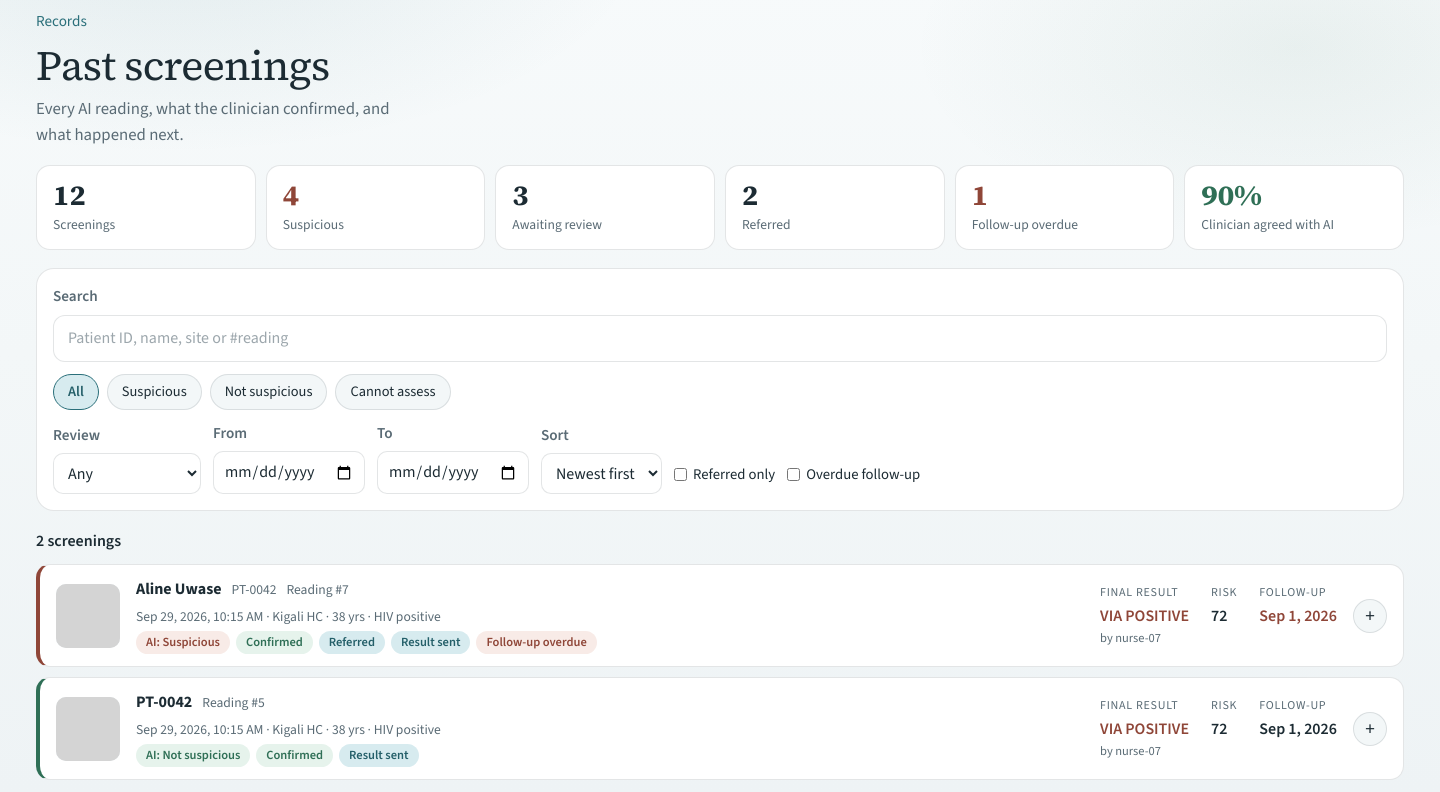
Test: ScreeningsScreen › expands a row with actions
Expected: the text "Aline Uwase" is shown, [136,577,222,602]
What coordinates should you click on to do the following:
click the button named "Show details for reading 7"
I would click on:
 (1370, 616)
Its box is [1353,599,1387,633].
(page scrolled)
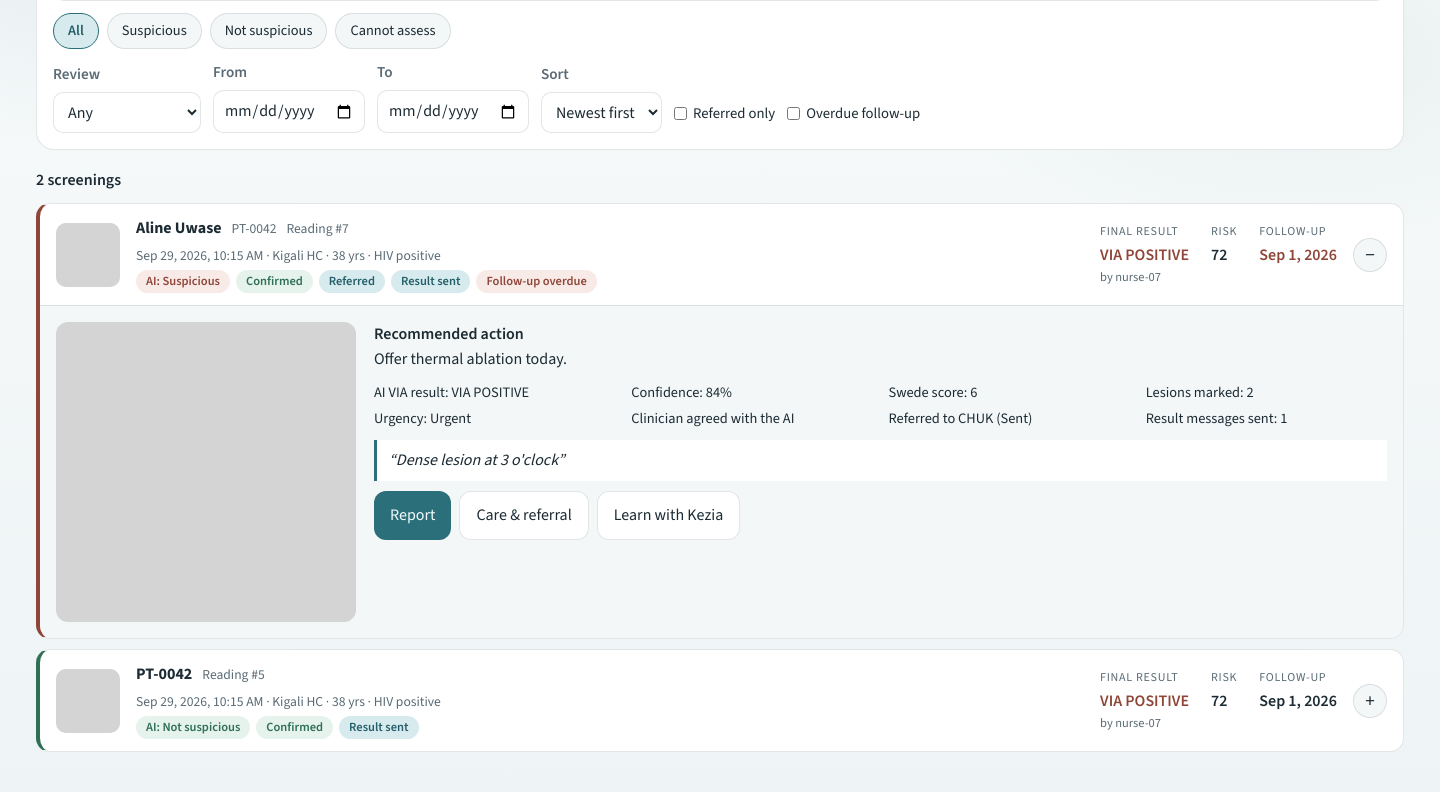
Now the text "Offer thermal ablation today." is shown, box [374,348,567,369]
